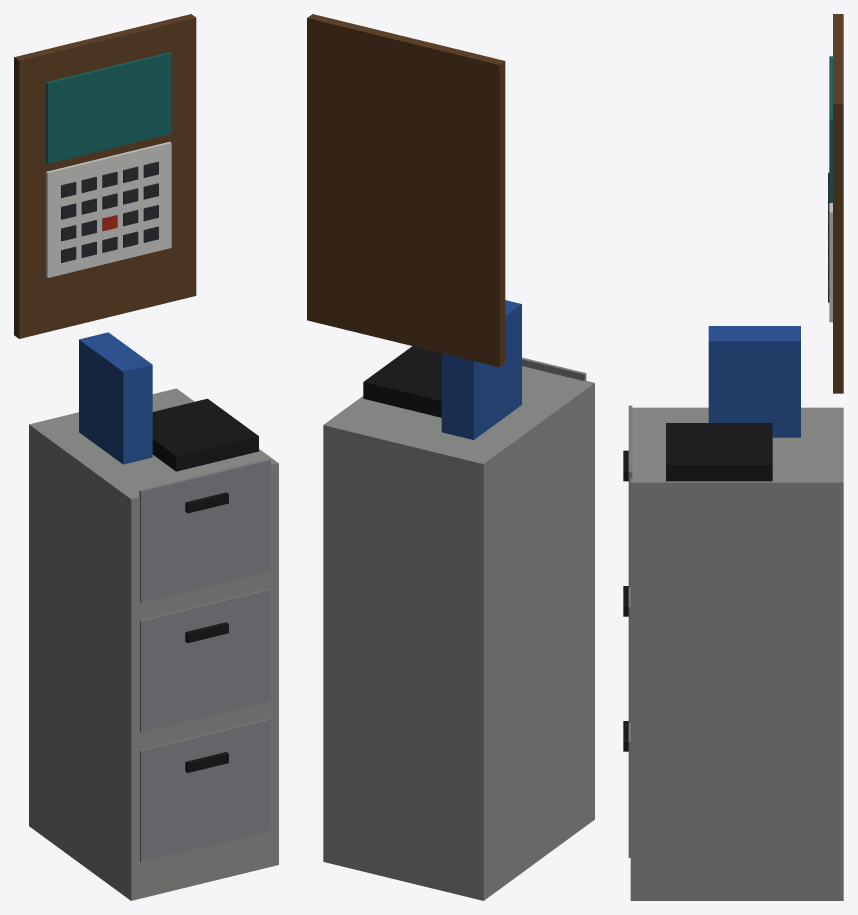
File: prop_office-cabinet.4ee19488d0c3.glb
3 views of the same model, side by side, from view 1: azimuth 30°, elevation 25°; view 2: azimuth 150°, elevation 25°; view 3: azimuth 270°, elevation 25° (orthographic). The views are drawn at different scales.
Parts seen in each view (by area): view 1: body; view 2: body; view 3: body.
Part boxes in pixels (bbox=[...]): body: bbox=[14, 14, 278, 900]; body: bbox=[307, 14, 594, 900]; body: bbox=[623, 14, 843, 900].
Bounding box in the file's own units: 0.6 × 2.5 × 0.62.
